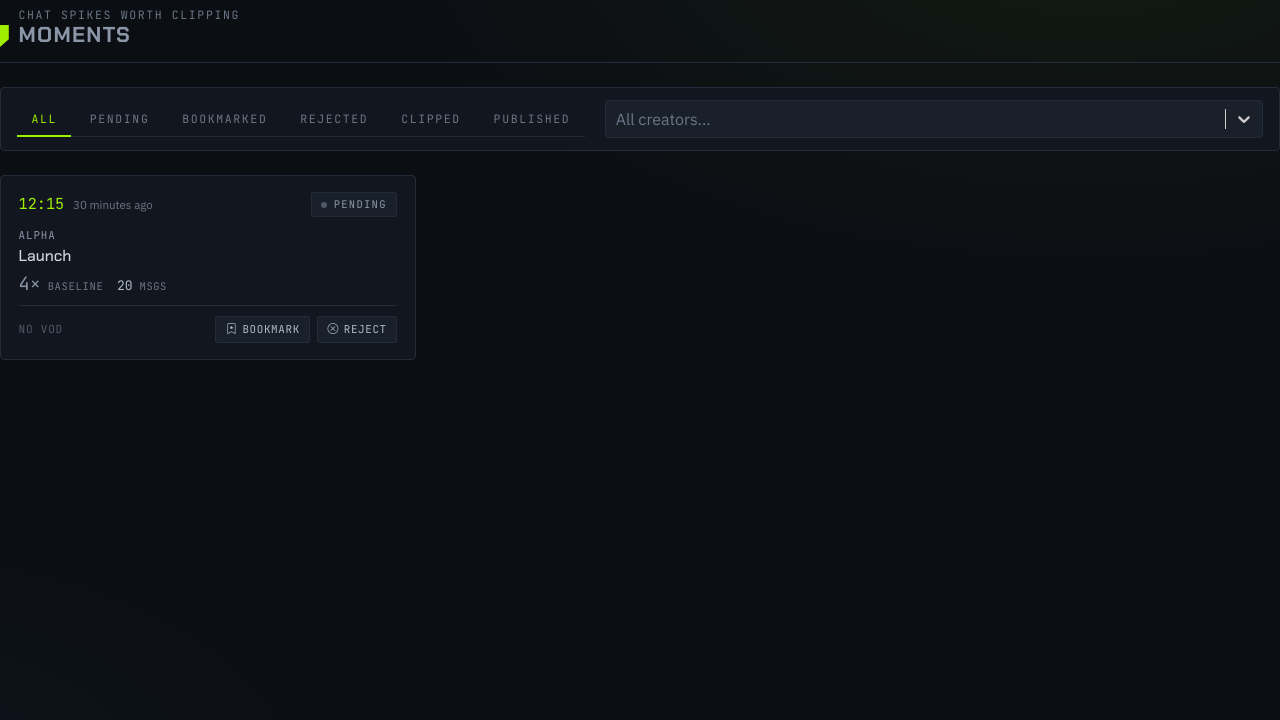
Test case: scene product surfaces › keeps a failed highlight review visible on the affected card
Click the button "Bookmark" at (263, 329), box [216,316,310,343]
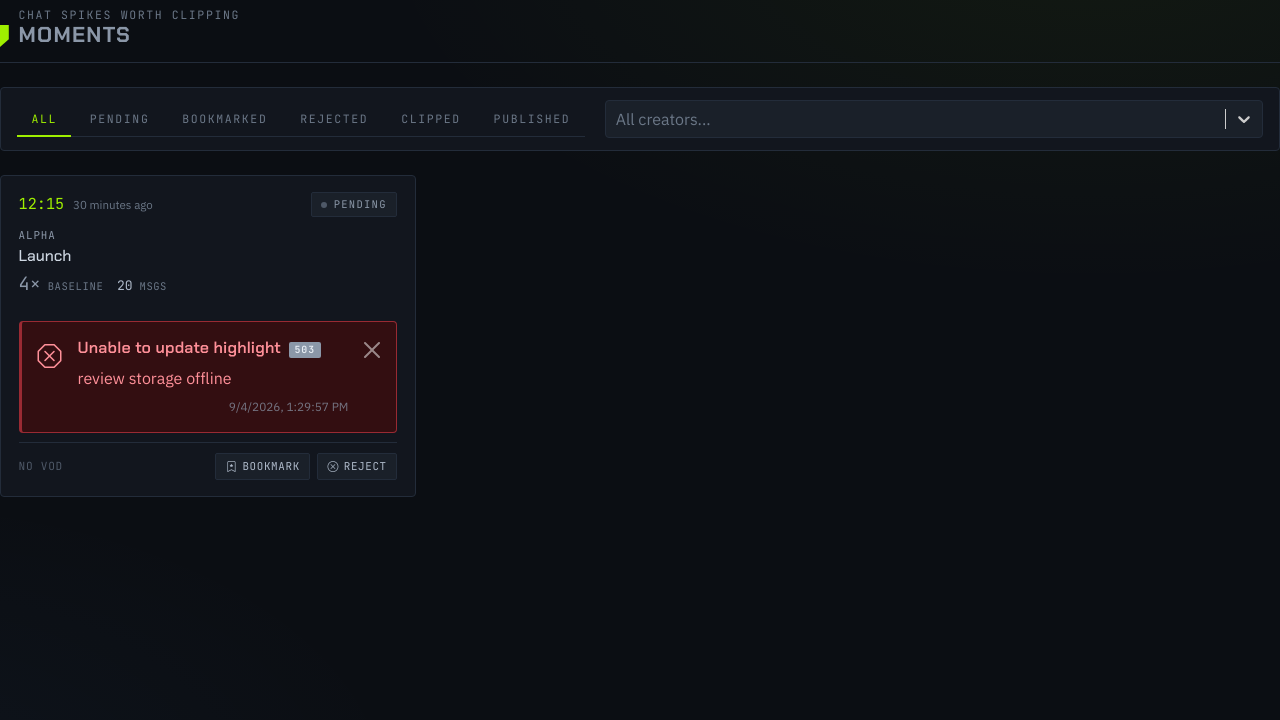
Result: the text "review storage offline" is shown at [78,368,232,388]
Result: the text "Unable to update highlight" is shown at [78,337,281,358]
